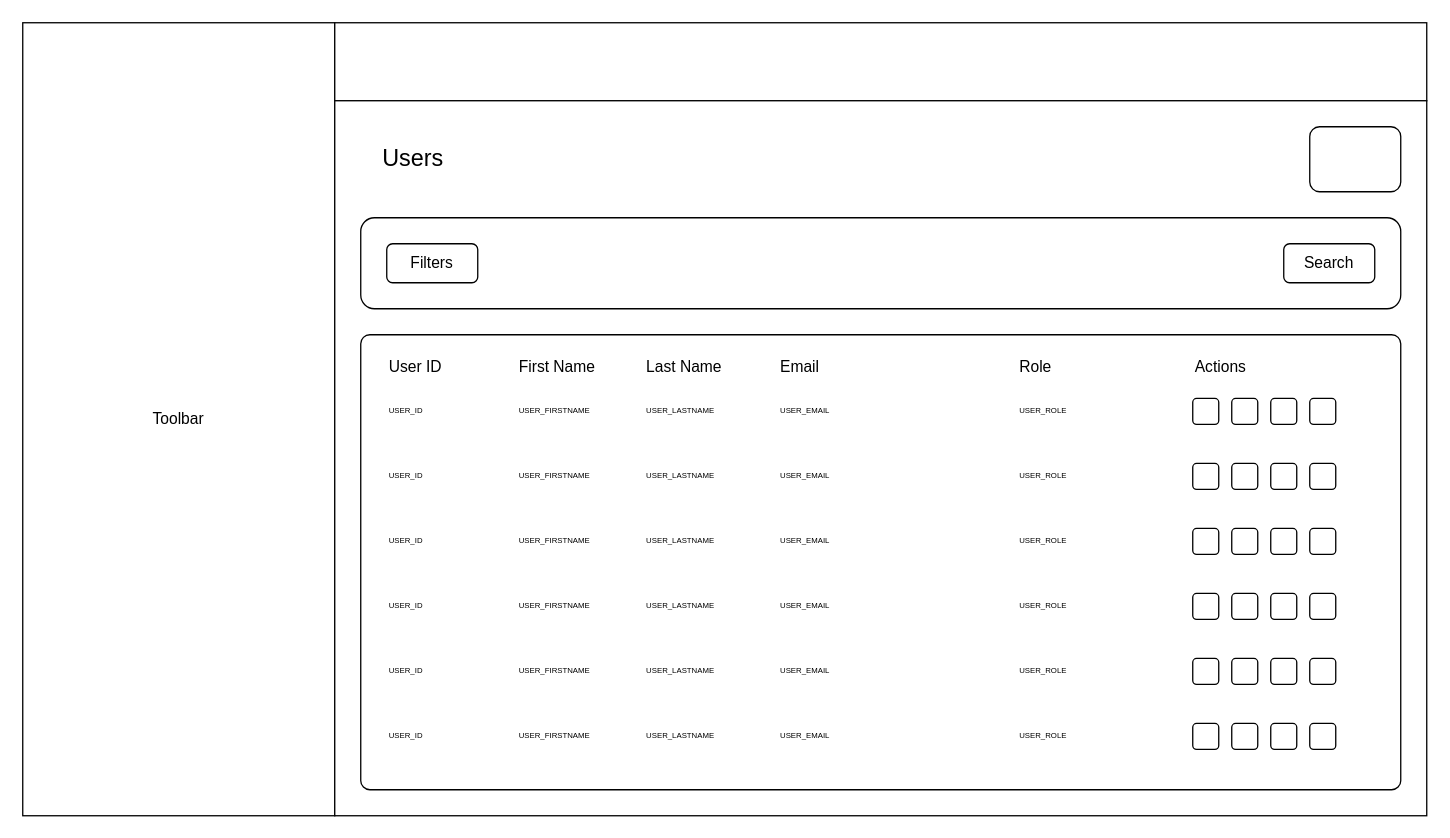
This 1450x838 diagram has some shape labels left out. Each missing label, with the centre of its shape:
Create User: point 1354,158
Navigation: point 880,61
